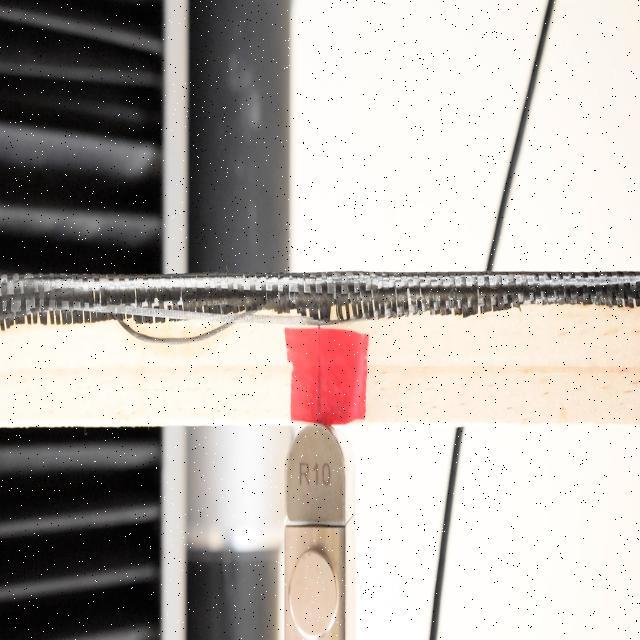wood: (2, 272, 640, 424)
